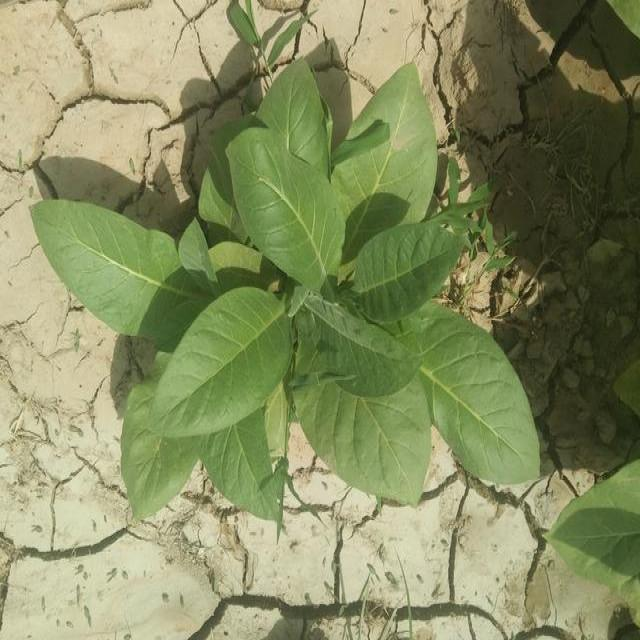crop: (38, 58, 540, 518), (560, 446, 640, 606)
